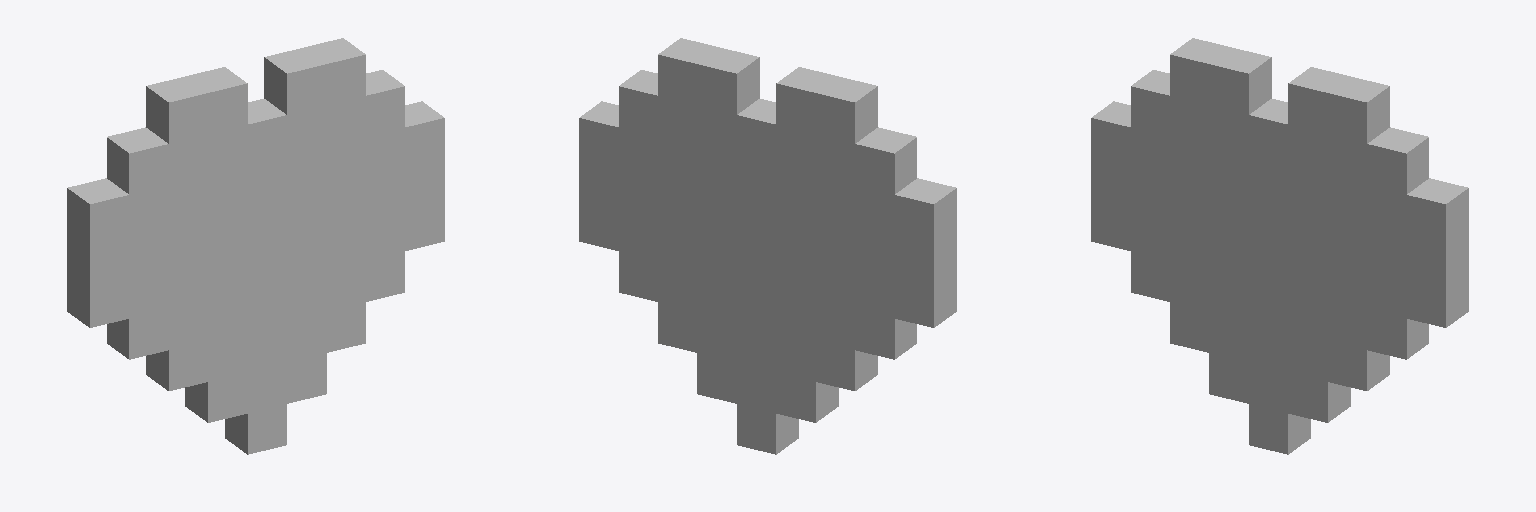
File: hearts.obj
3 renders of one model, left to right at view 1: azimuth 30°, elevation 25°; view 2: azimuth 150°, elevation 25°; view 3: azimuth 330°, elevation 25°, orthographic.
Visible parts, largest first — view 1: Cube.004, Cube.046, Cube.031, Cube.048; view 2: Cube.004, Cube.046, Cube.031, Cube.048; view 3: Cube.004, Cube.046, Cube.031, Cube.048.
Part boxes in pixels (x1,y1,x2,y2): Cube.004: (67,38,444,454); Cube.046: (129,96,404,371); Cube.031: (129,210,404,412); Cube.048: (327,137,365,187); Cube.004: (579,38,956,454); Cube.046: (619,96,894,371); Cube.031: (619,210,894,412); Cube.048: (658,137,696,187); Cube.004: (1091,38,1468,454); Cube.046: (1131,96,1406,371); Cube.031: (1131,210,1406,412); Cube.048: (1328,176,1366,225).
Bounding box in the file's own units: 9 × 9 × 1.